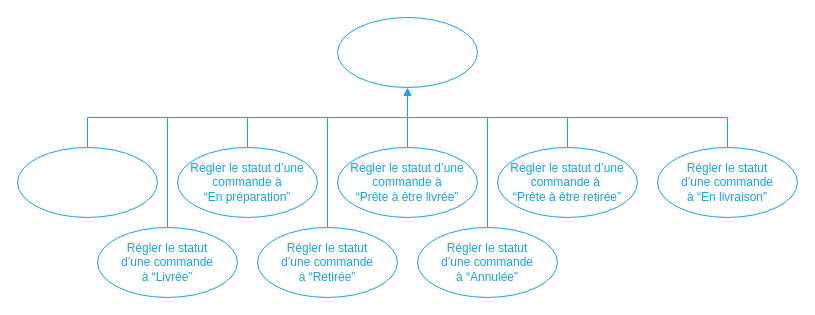
Image size: 815x315. Some labels were removed from this diagram. Here are the shapes that lost their labels. From the top down, the centre of each, then its label:
(x=407, y=52): Modifier le statut d’une commande
(x=87, y=182): Régler le statut d’une commande à “Reçue”
